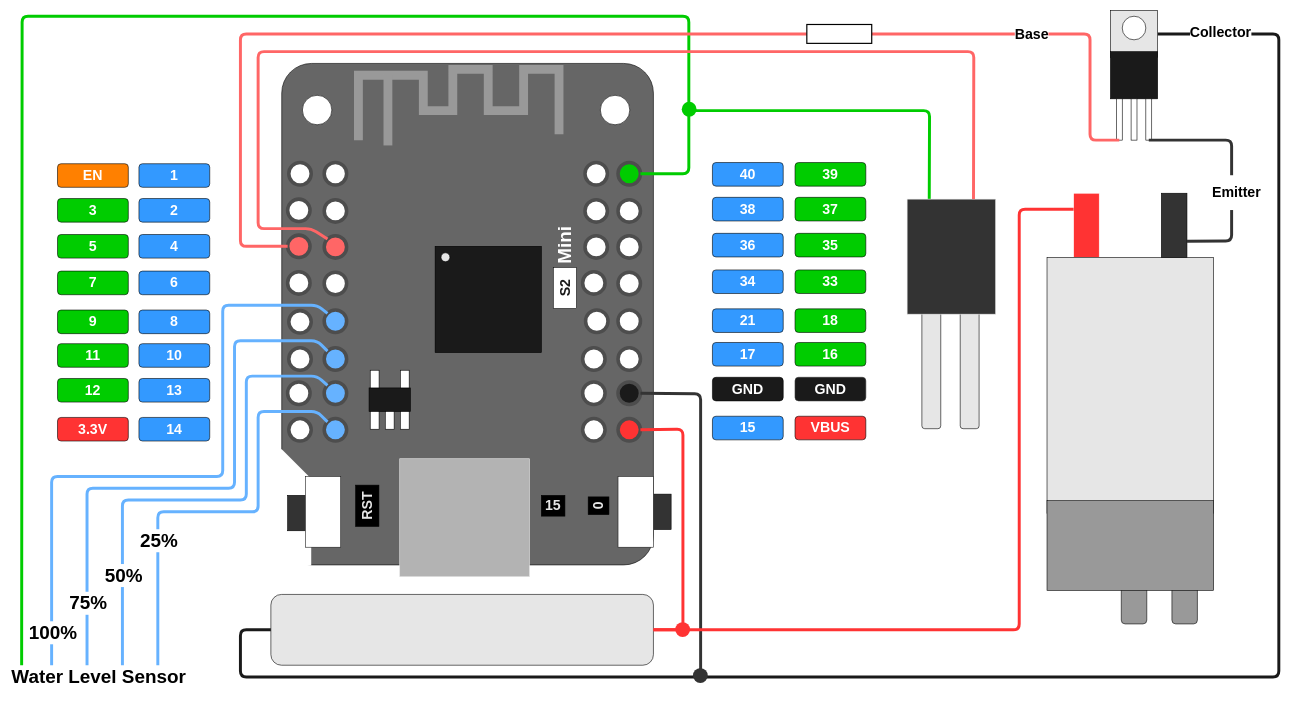
Some shapes in this 1291 by 709 pixel diagram are drawn without their labels. Each missing label, with the centre of its shape:
"1K" goes at (839,34).
"5V DC Motor" goes at (1130,385).
"Lithium-Ion Battery" goes at (461,629).
"Moisture Sensor" goes at (951,256).
"NPN" goes at (1134,75).
"Pump" goes at (1130,545).
